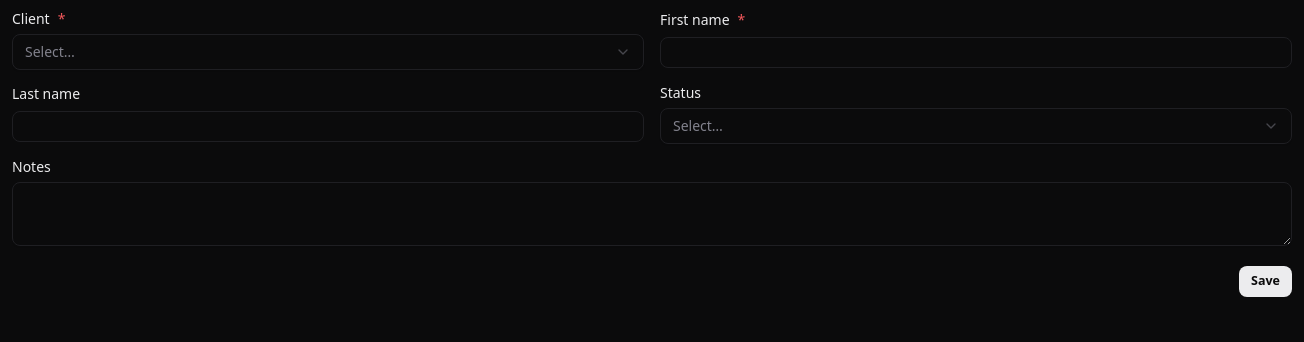
EntityForm accessibility › announces the validation message and moves focus to the field that failed
The width and height of the screenshot is (1304, 342).
Click the button "Save". click: (1266, 282)
box: [1239,266,1292,297]
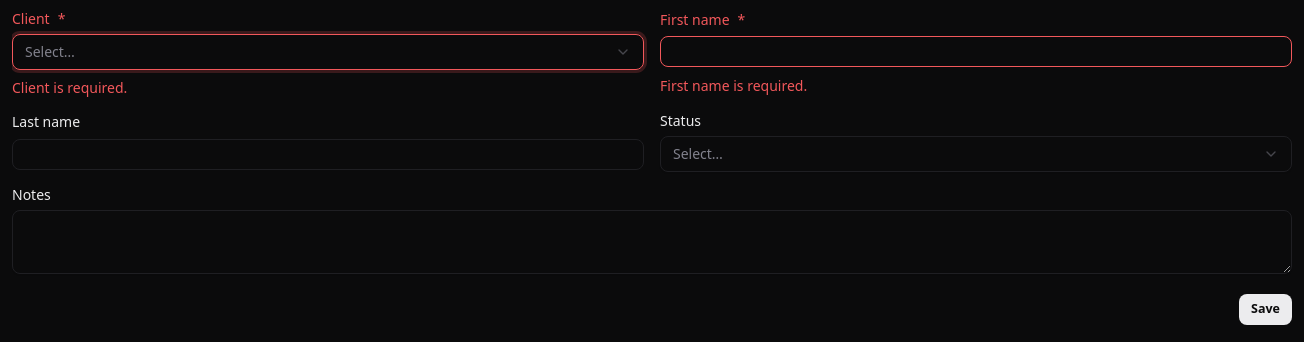
Expected: the messages read "Client is required.", "First name is required.", in this order, [12,78,127,97]; [660,76,807,95]
